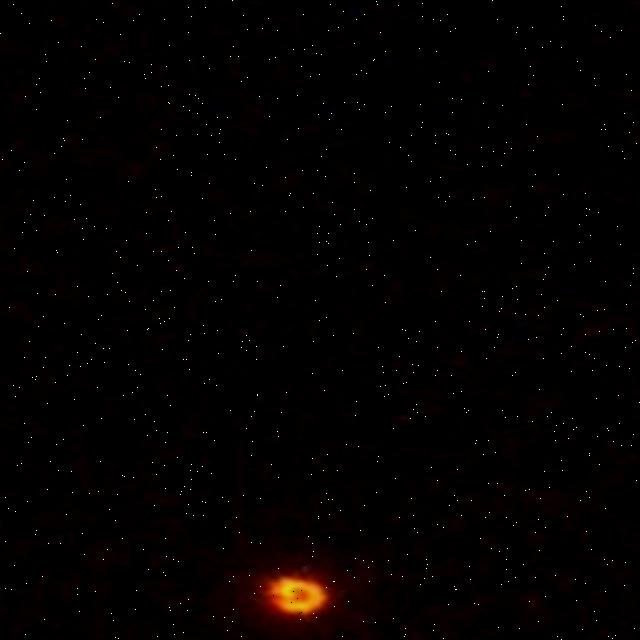microbeads: (268, 569, 328, 619)
